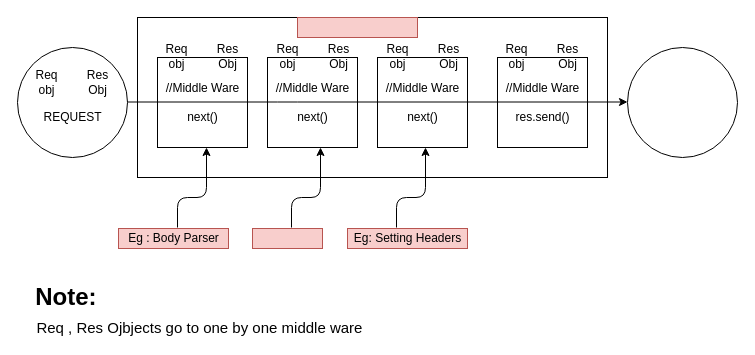
Image size: 755x355. Some labels were removed from this diagram. The shapes that lost their labels are listed below. From the top down, each one's box as (x1, y1, x2, y2) in pixels, then its label:
(296, 16, 418, 38): Middle Ware Stack
(626, 46, 738, 158): RESPONSE
(252, 228, 322, 248): Eg: Logger
